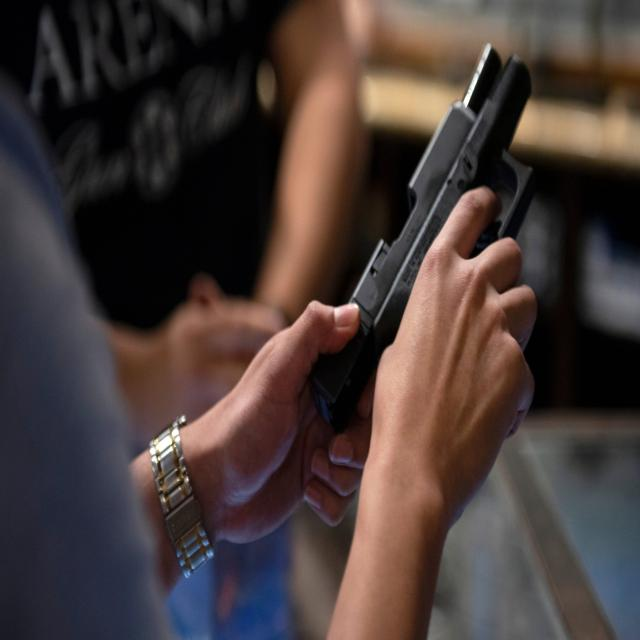HandGun: (313, 44, 535, 432)
